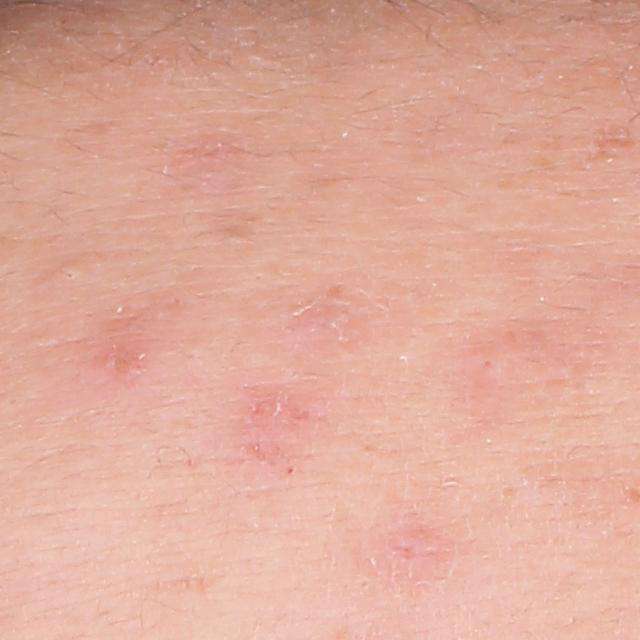comedo: (59, 262, 86, 285)
